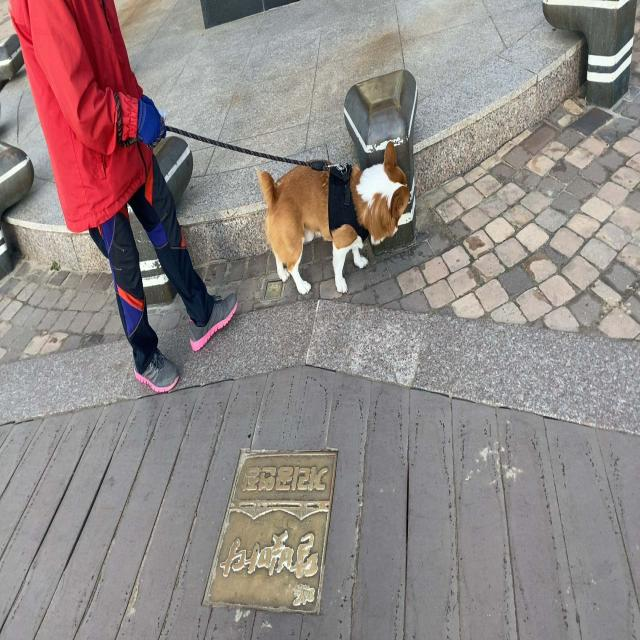Leashed_Dog: (133, 101, 411, 297)
